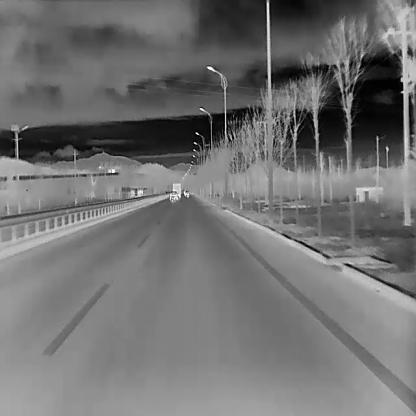car: (169, 190, 178, 200), (184, 189, 188, 197)
truck: (172, 182, 180, 197)
